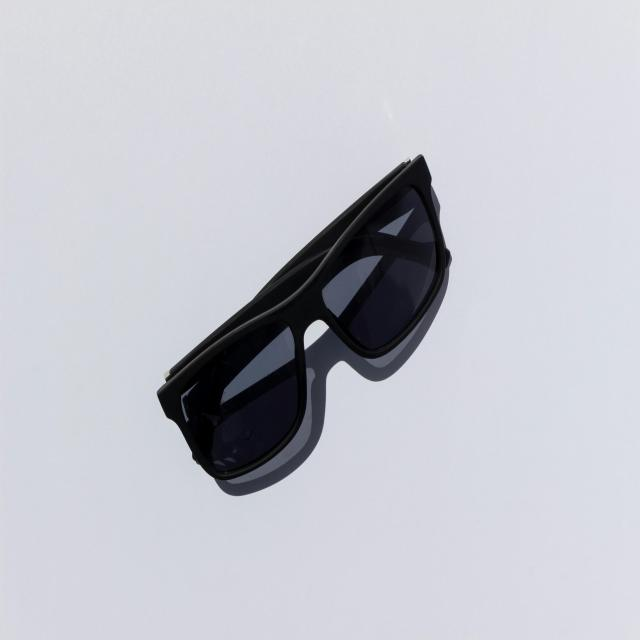oculos: (154, 151, 452, 483)
